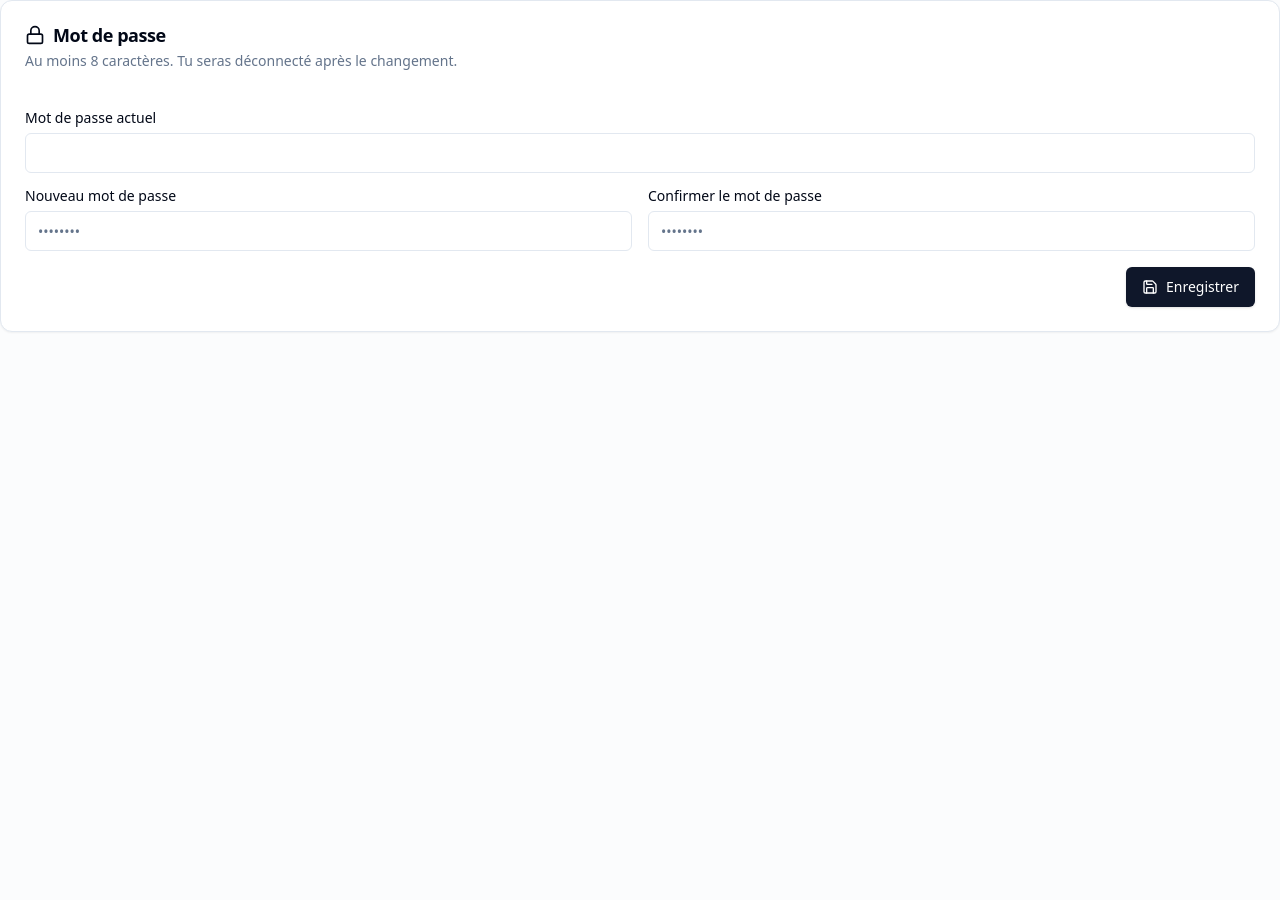
Test: PasswordCard › confirmation différente ou trop court : refusé avant envoi
Type "ancien" into the password field labelled "Mot de passe actuel" at (640, 153), box [25,133,1255,173]
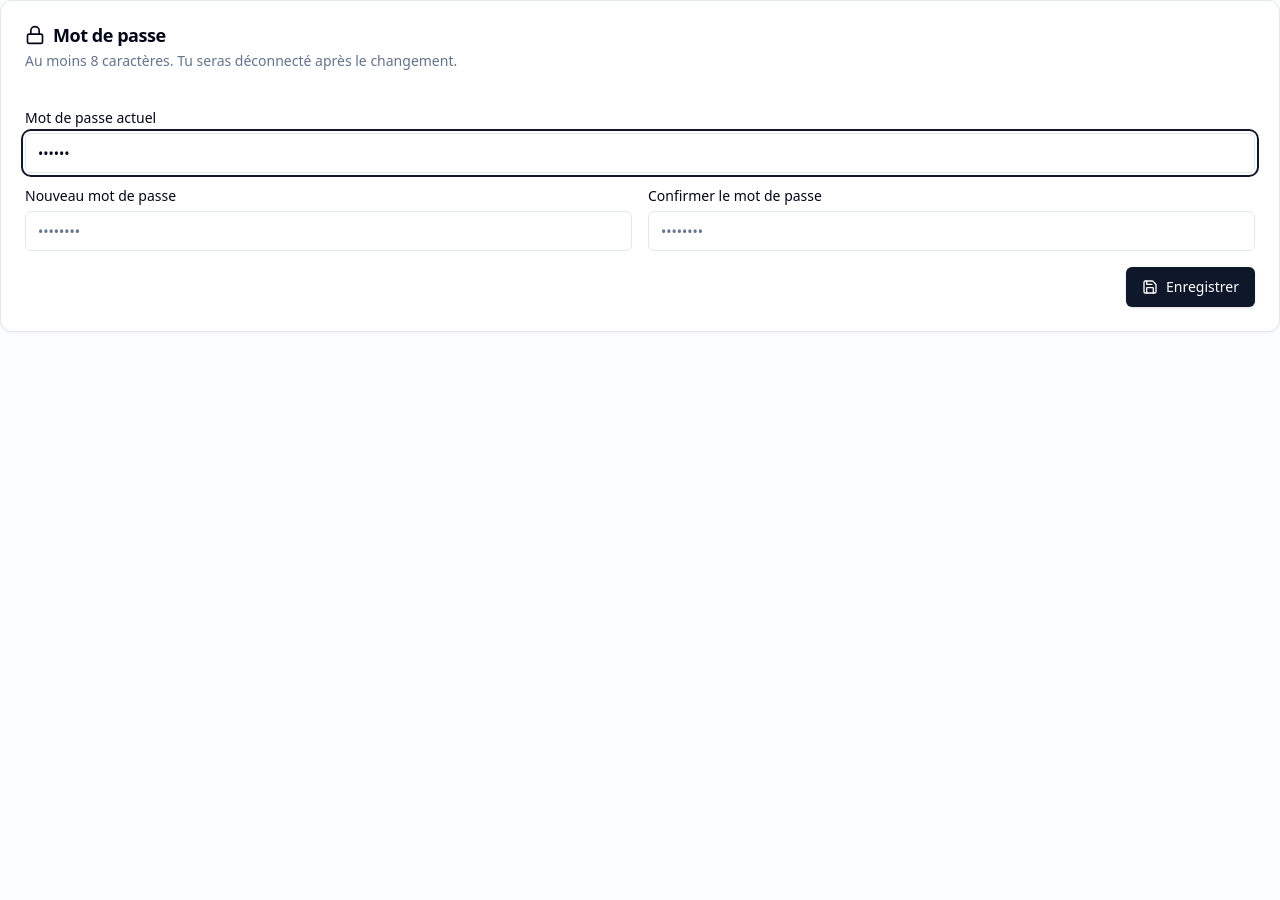
Type "nouveau-secret" into the password field labelled "Nouveau mot de passe" at (328, 231), box [25,211,632,251]
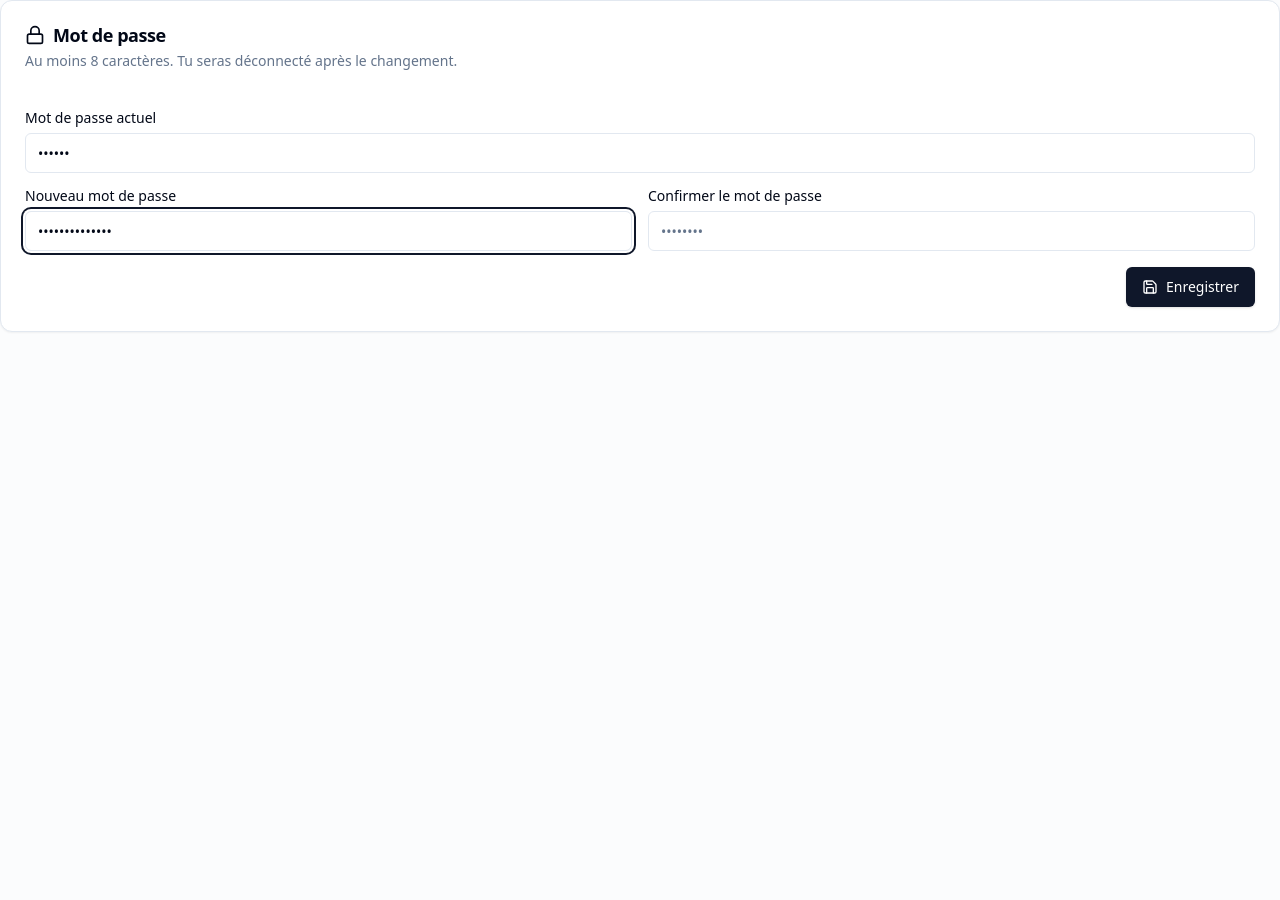
Type "autre-secret" into the password field labelled "Confirmer le mot de passe" at (952, 231), box [648,211,1255,251]
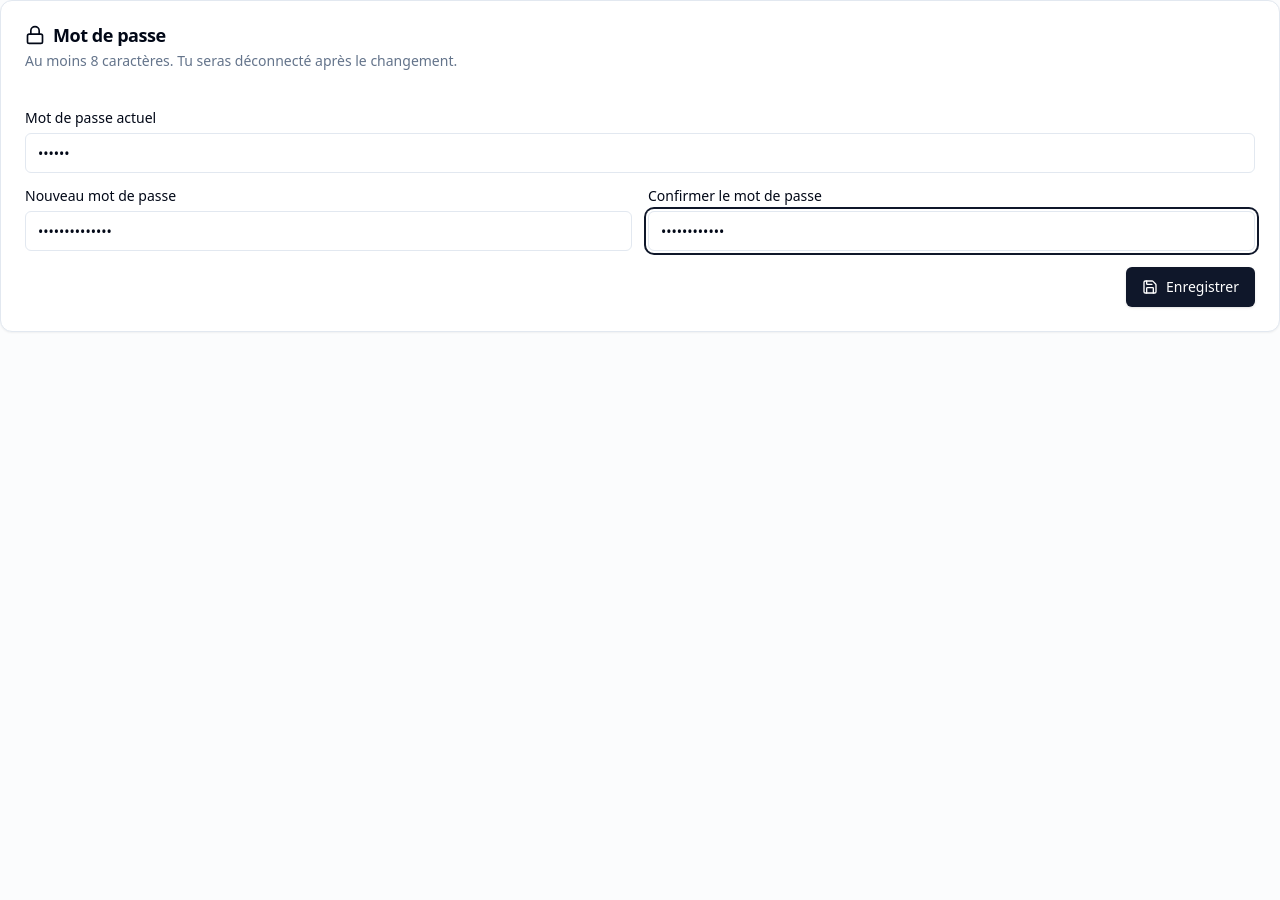
Click the button "Enregistrer" at (1190, 287), box [1126,267,1255,307]
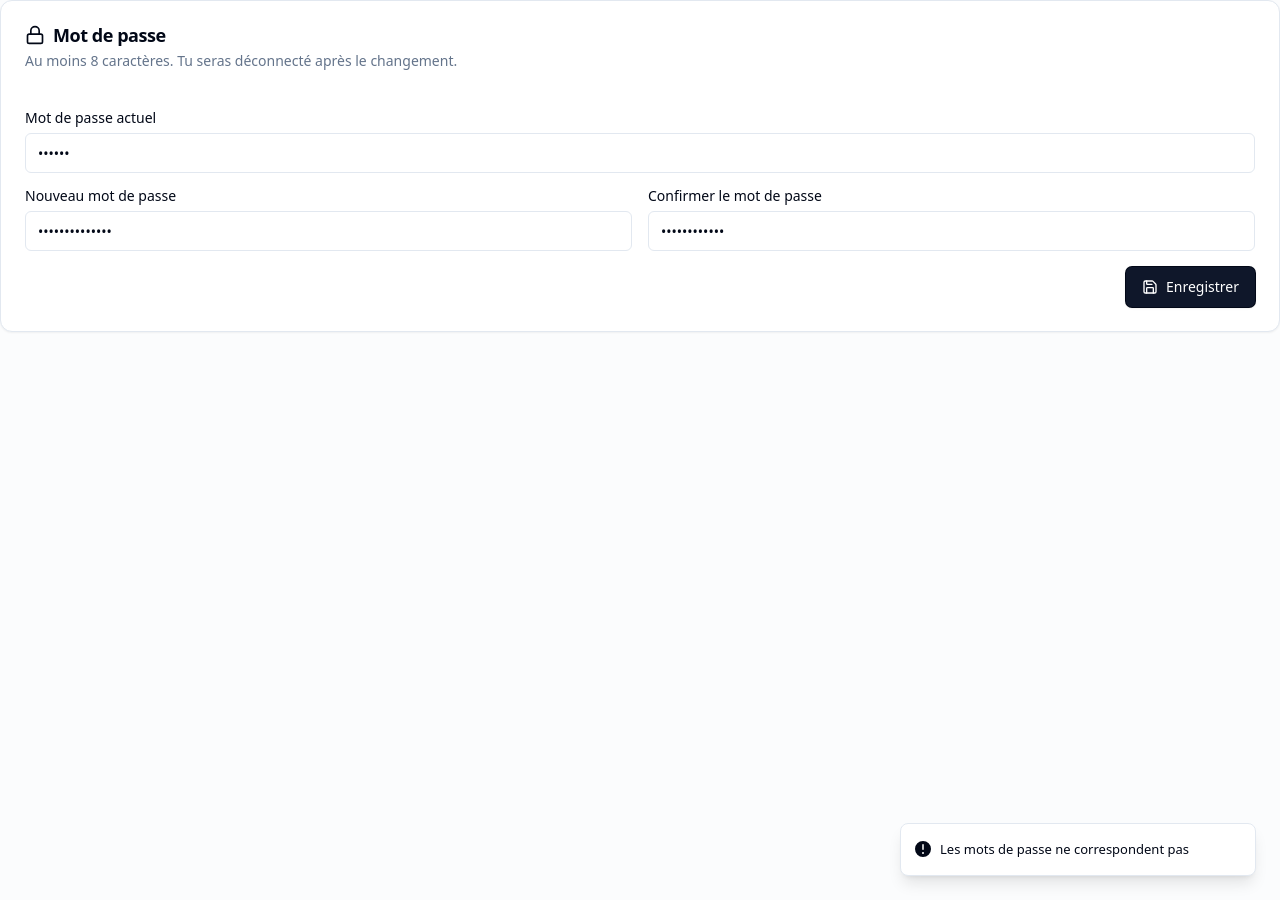
Now the text "Les mots de passe ne correspondent pas" is shown, box [940,840,1189,859]
